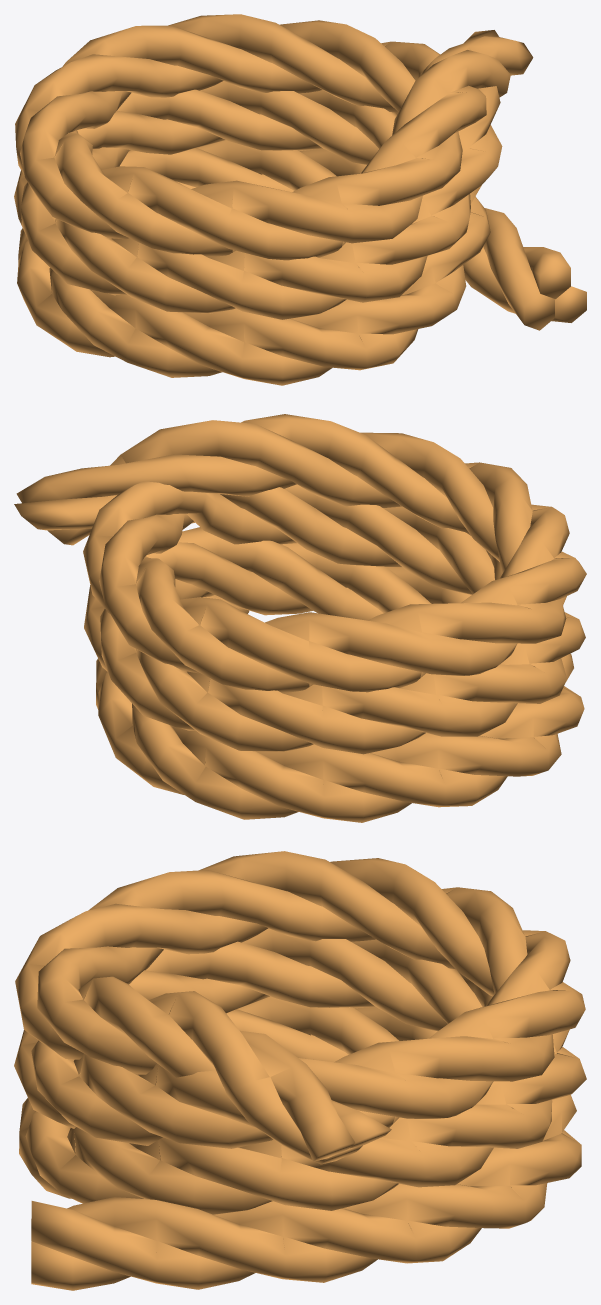
Rendered from rope.fbx.
3 renders of one model, top to bottom at view 1: azimuth 30°, elevation 25°; view 2: azimuth 150°, elevation 25°; view 3: azimuth 270°, elevation 25°, orthographic. The views are drawn at different scales.
Visible parts, largest first — view 1: Cylinder.002; view 2: Cylinder.002; view 3: Cylinder.002.
Part boxes in pixels (bbox=[...]): Cylinder.002: bbox=[14, 14, 586, 385]; Cylinder.002: bbox=[14, 414, 586, 822]; Cylinder.002: bbox=[14, 851, 586, 1290].
Size of the model in its own units: 0.4061 by 0.177 by 0.3464.
